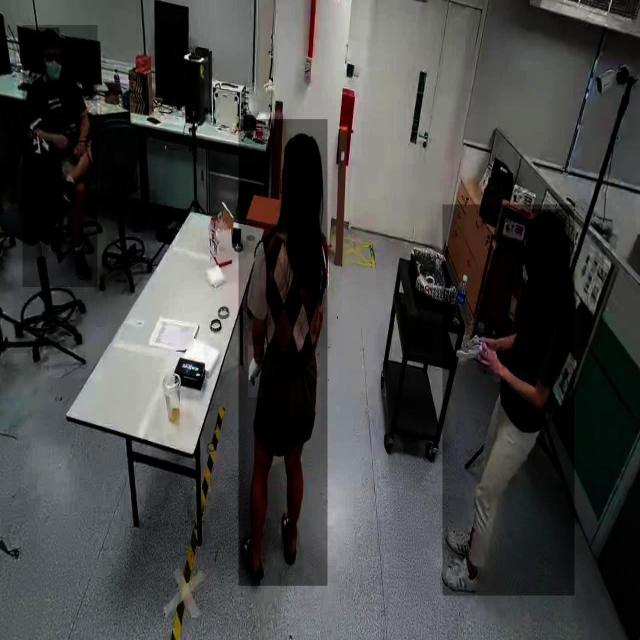face_mask: (518, 244, 536, 289), (42, 54, 64, 84)
hand_glove: (248, 346, 263, 398)
hand_noglove: (52, 130, 70, 154), (72, 136, 88, 157)
head_nohelmet: (528, 209, 570, 251), (282, 132, 322, 166), (38, 28, 60, 44)
person: (443, 204, 575, 596), (238, 119, 328, 587), (22, 25, 98, 288)
shoes: (444, 516, 483, 562), (441, 553, 481, 597)
